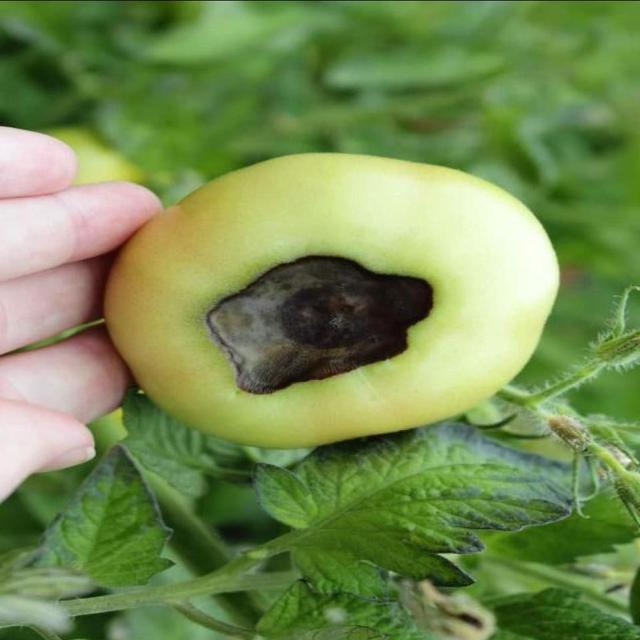Blossom End Rot Fruit: (134, 167, 293, 265)
